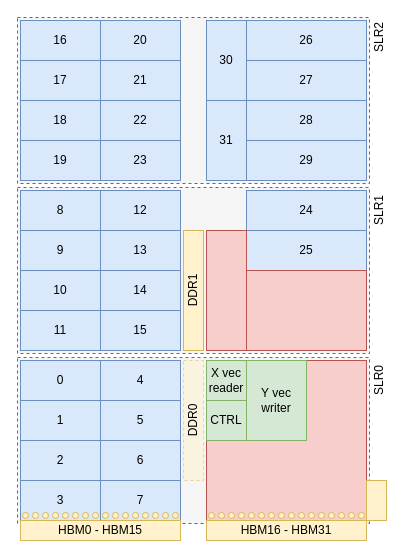
The diagram is 407 pixels wide and 558 high, and some of its shapes have lost their labels. The box of each missing label's shape, as (x1, y1, x2, y2) in pixels:
DDR CTRL: (206, 230, 246, 350)
MIG: (246, 270, 366, 350)
PCIe: (366, 480, 386, 520)
tapasco: (206, 360, 366, 520)
